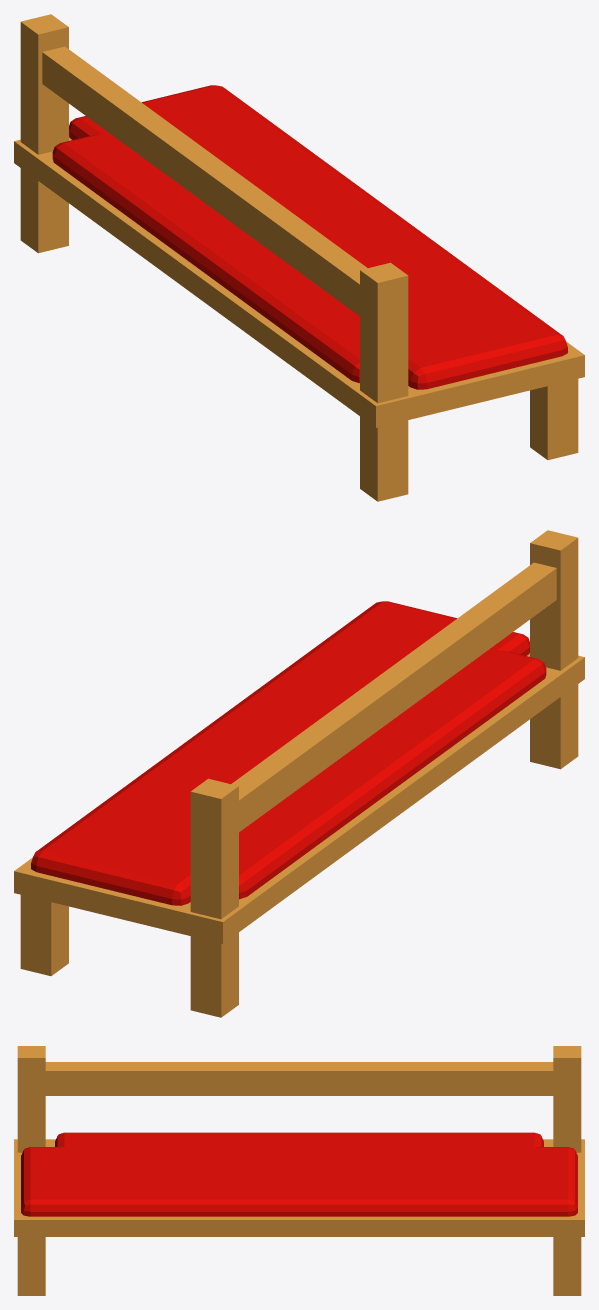
Rendered from bench_l2.fbx.
3 views of the same model, one above another, from view 1: azimuth 30°, elevation 25°; view 2: azimuth 150°, elevation 25°; view 3: azimuth 270°, elevation 25° (orthographic). The views are drawn at different scales.
Visible parts, largest first — view 1: Cube.018; view 2: Cube.018; view 3: Cube.018.
Boxes of the visible parts, left/top/right/bottom form: Cube.018: left=14, top=14, right=584, bottom=501; Cube.018: left=14, top=530, right=584, bottom=1017; Cube.018: left=14, top=1046, right=584, bottom=1295.
Bounding box in the file's own units: 50 × 50 × 150.
